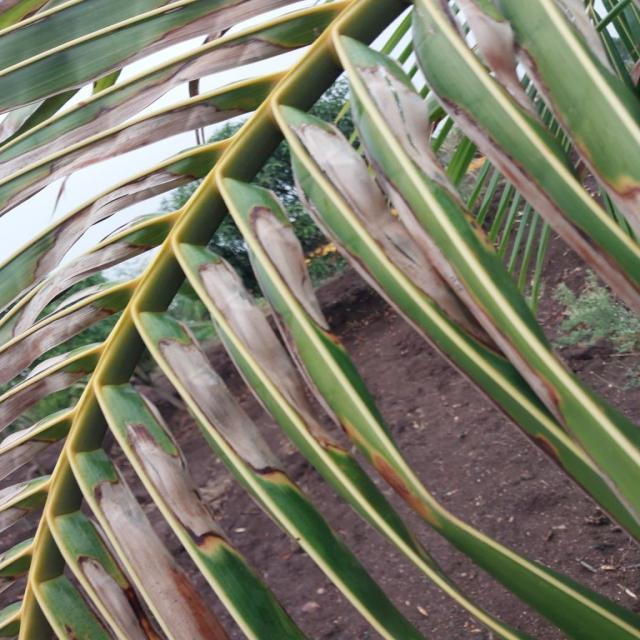gray leaf spot: (0, 8, 572, 626)
